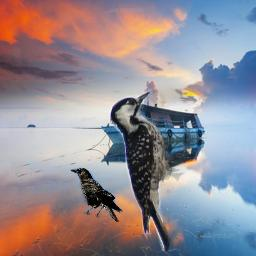Crow: (68, 167, 123, 223)
Woodpecker: (108, 88, 195, 251)
